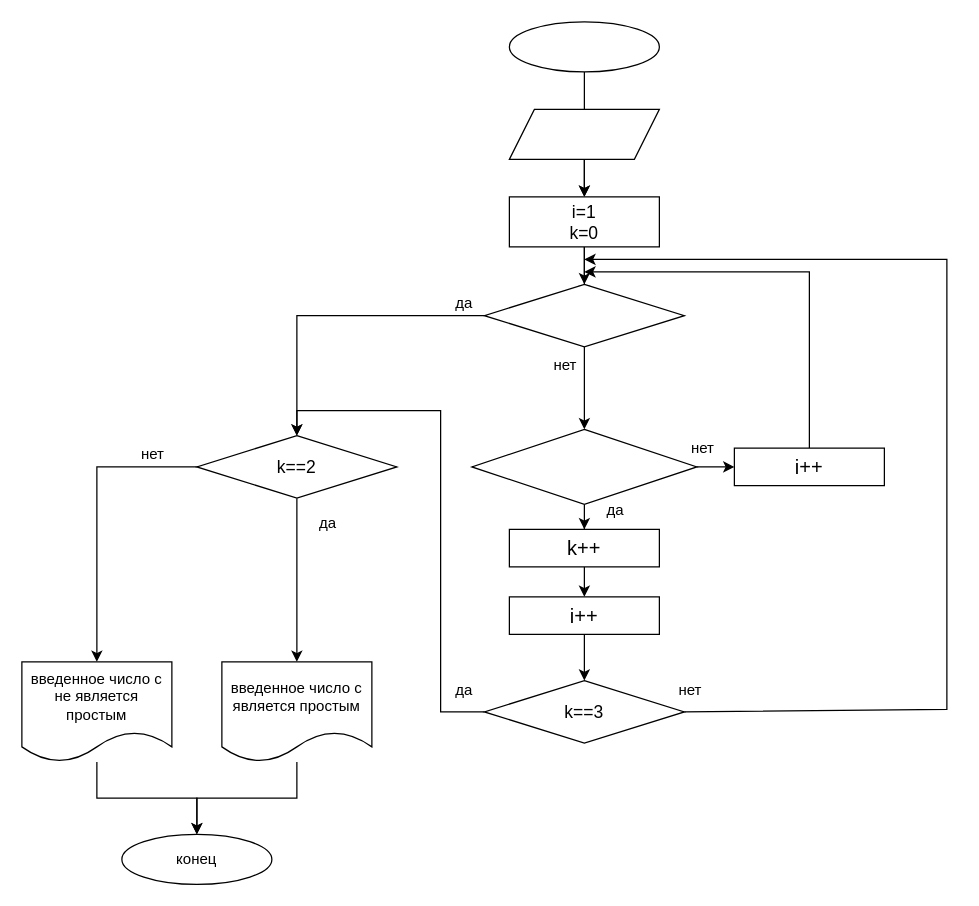
Some shapes in this 979 by 906 pixel diagram are drawn without their labels. The shapes that lost their labels are listed below. From the top down, each one's centre as x and y in pixels, then its label:
the point at 583,46: Начало
the point at 583,133: ввод числа с
the point at 583,315: i<=c
the point at 584,466: с%i==0
